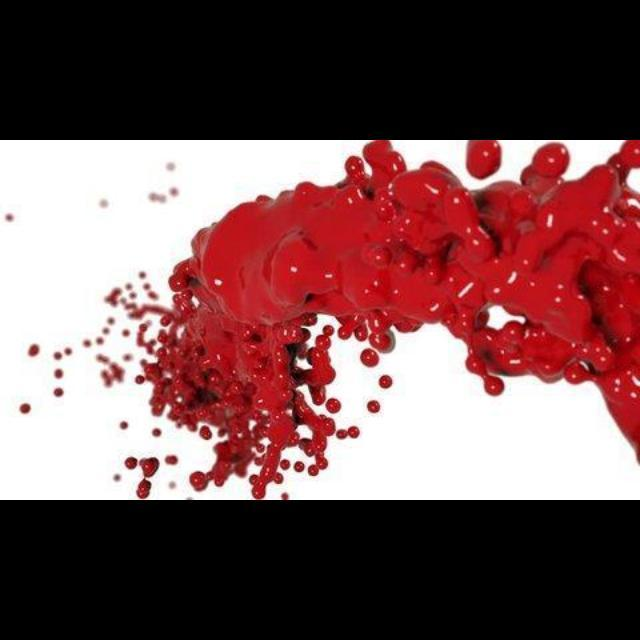blood: (105, 140, 640, 498), (7, 333, 159, 500), (468, 140, 503, 178), (380, 375, 393, 389), (368, 401, 380, 413)
